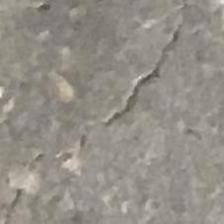Non_Crack: (130, 137, 220, 224)
